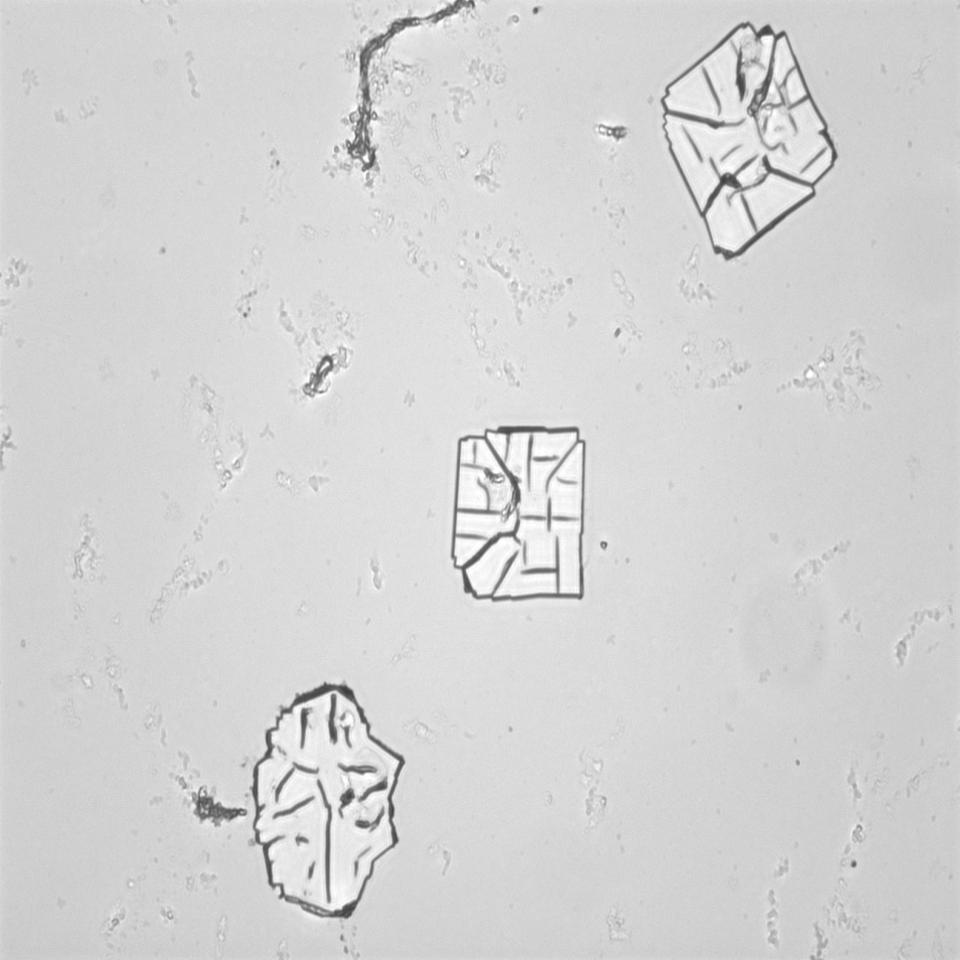crystal: (648, 15, 850, 281), (235, 663, 411, 943), (428, 412, 626, 650)
